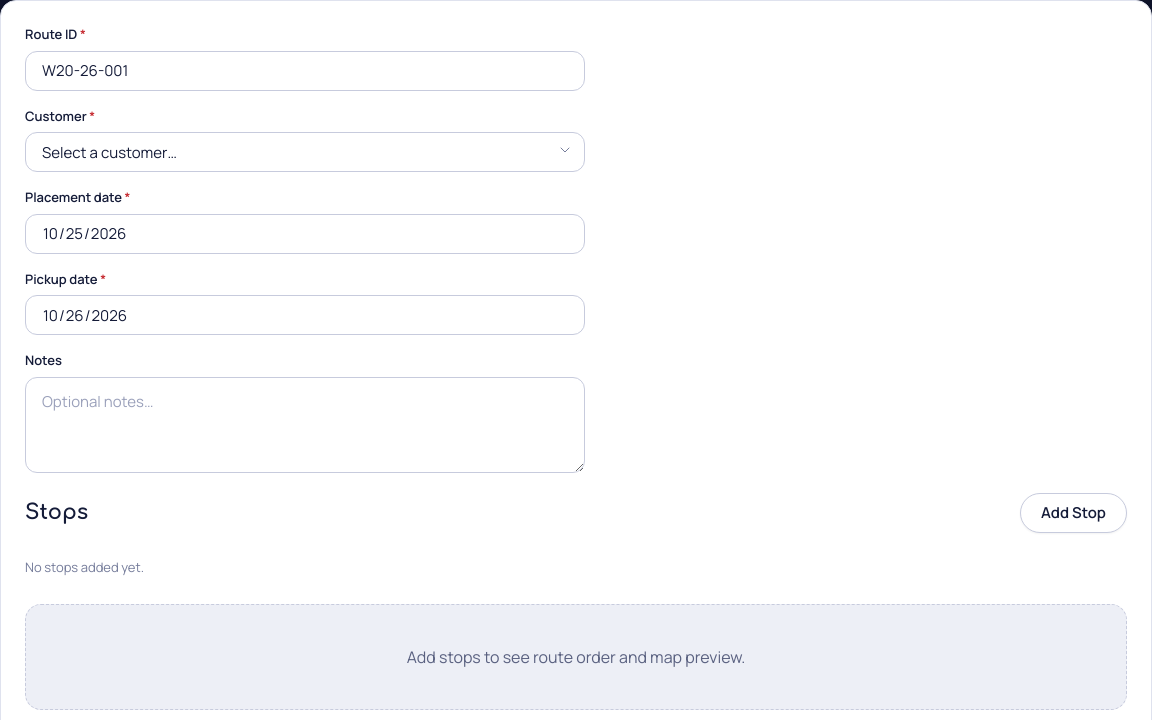
RouteForm › threads customer standing instructions and defaults into stop form
Select "Acme Corp (acme@example.com)" in the dropdown labelled "Customer *" at (305, 152), box [25,132,585,172]
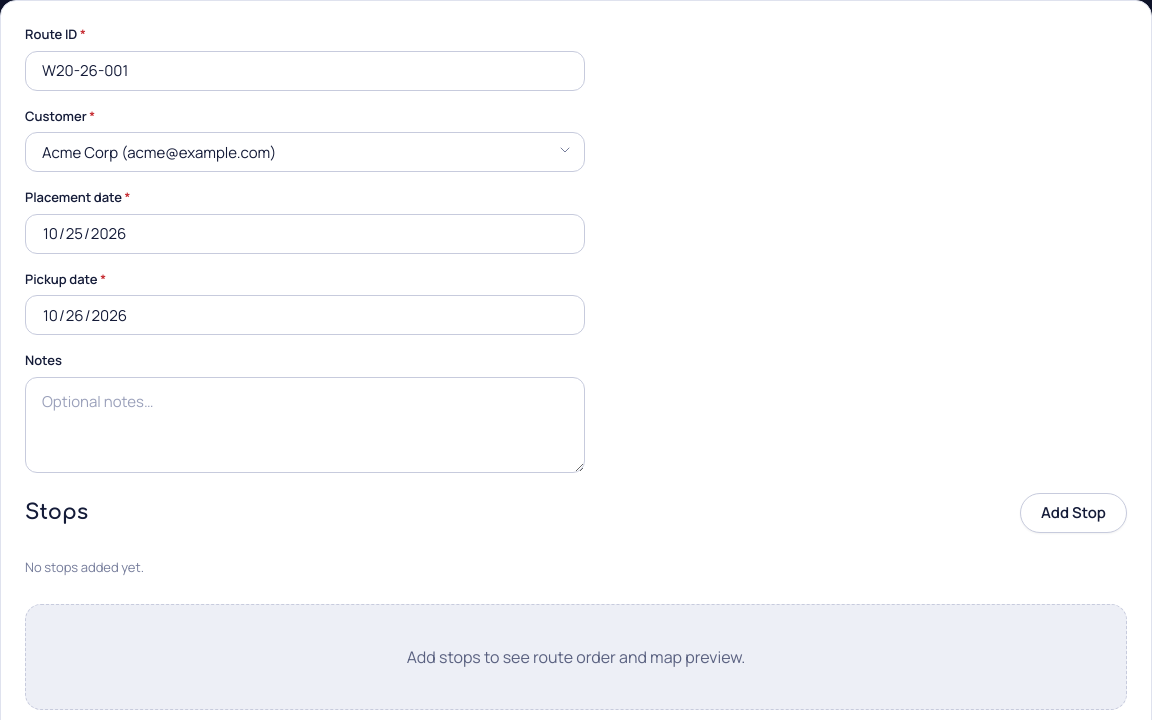
Click the button "Add Stop" at (1074, 512), box [1020,492,1127,532]
(page scrolled)
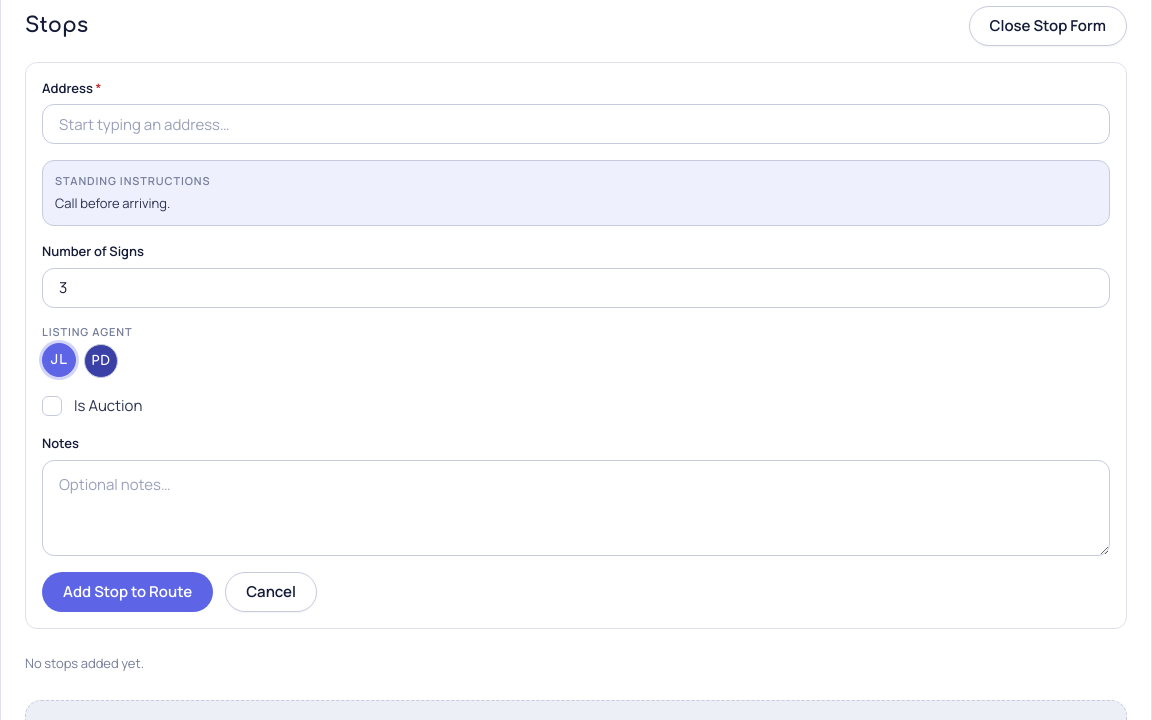
Result: the text "Call before arriving." is shown at [55,194,170,212]
Result: the number field labelled "Number of Signs" holds "3" at [42,268,1110,308]
